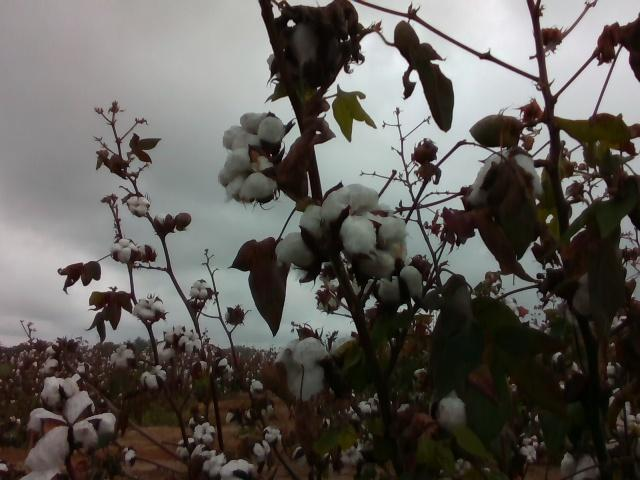cotton_ready: (21, 389, 118, 473), (324, 180, 410, 256), (421, 395, 497, 472), (472, 149, 546, 200), (275, 338, 328, 402), (217, 152, 279, 205), (279, 206, 327, 272), (561, 266, 599, 348), (282, 24, 328, 80), (220, 112, 281, 154), (39, 351, 88, 401), (376, 257, 425, 300), (559, 448, 601, 480)
